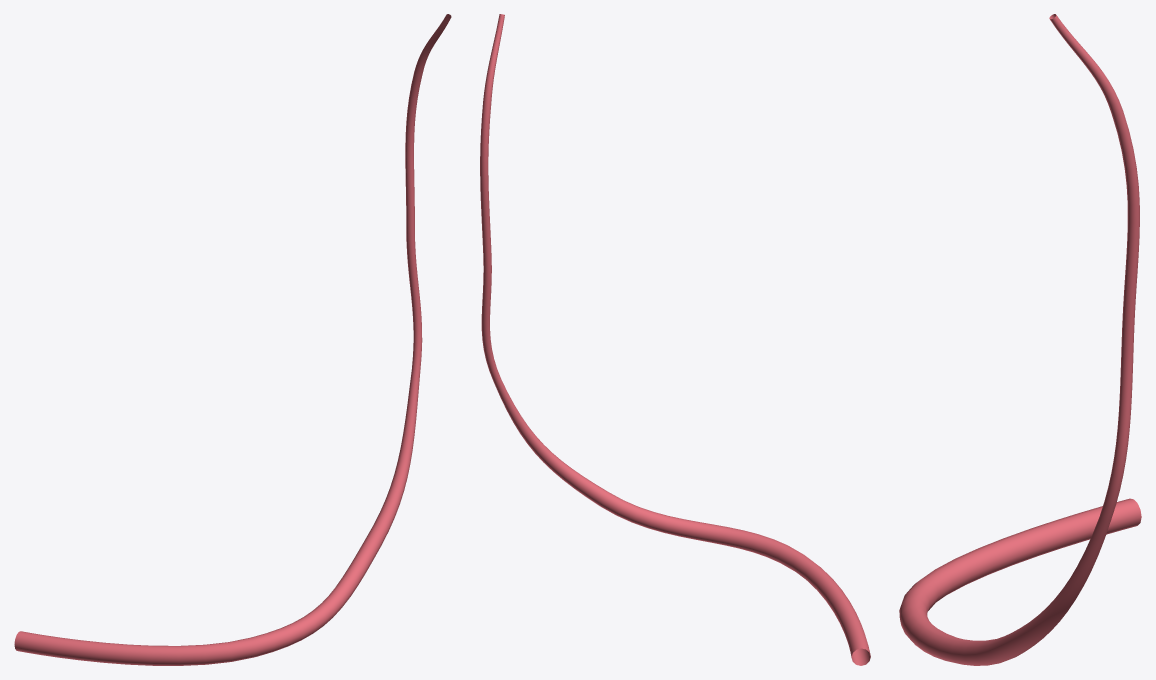
3 views of the same model, side by side, from view 1: azimuth 30°, elevation 25°; view 2: azimuth 150°, elevation 25°; view 3: azimuth 270°, elevation 25° (orthographic). The views are drawn at different scales.
Visible parts, largest first — view 1: ZA_17d3785499893565; view 2: ZA_17d3785499893565; view 3: ZA_17d3785499893565.
Part boxes in pixels (bbox=[...]): ZA_17d3785499893565: bbox=[14, 14, 451, 665]; ZA_17d3785499893565: bbox=[480, 14, 870, 665]; ZA_17d3785499893565: bbox=[899, 14, 1141, 665].
Size of the model in its own units: 0.0329 by 0.0427 by 0.0119.
